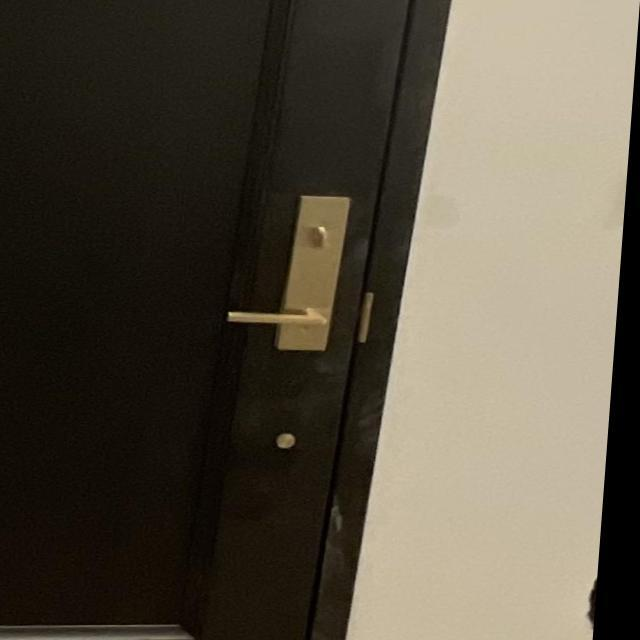door_handle: (221, 296, 356, 341)
